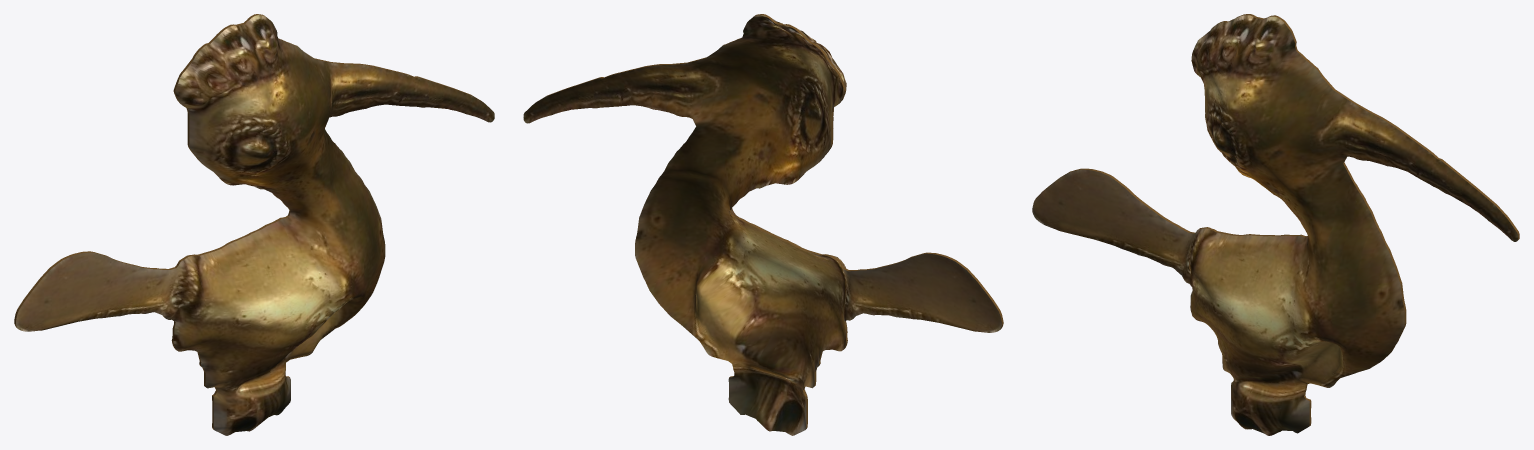
Rendered from remate_con_forma_de_pajaro.glb.
The picture shows the model from 3 angles, left to right: view 1: azimuth 30°, elevation 25°; view 2: azimuth 150°, elevation 25°; view 3: azimuth 330°, elevation 25°; orthographic projection.
Visible parts, largest first — view 1: remate_con_forma_de_pajaro; view 2: remate_con_forma_de_pajaro; view 3: remate_con_forma_de_pajaro.
Boxes of the visible parts, x1=… form: remate_con_forma_de_pajaro: x1=14, y1=14, x2=494, y2=435; remate_con_forma_de_pajaro: x1=523, y1=14, x2=1003, y2=435; remate_con_forma_de_pajaro: x1=1032, y1=14, x2=1519, y2=435.
Bounding box in the file's own units: 5.2 × 4.3 × 0.6578.
1 material, 1 textured.
